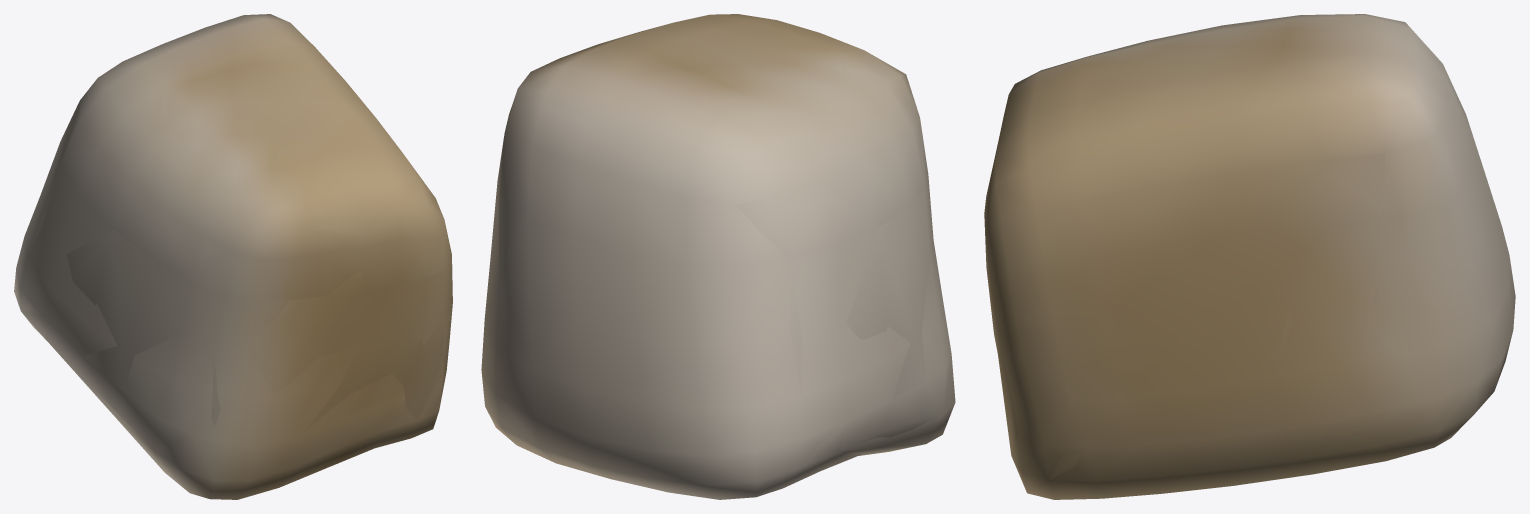
Rendered from R carpale secundum.fbx.
3 views of the same model, side by side, from view 1: azimuth 30°, elevation 25°; view 2: azimuth 150°, elevation 25°; view 3: azimuth 270°, elevation 25° (orthographic). The views are drawn at different scales.
Parts seen in each view (by area): view 1: R carpale secundum, R carpale secundum low; view 2: R carpale secundum, R carpale secundum low; view 3: R carpale secundum, R carpale secundum low.
Part boxes in pixels (left/top/right/bottom): R carpale secundum: left=14, top=14, right=452, bottom=499; R carpale secundum low: left=21, top=15, right=452, bottom=496; R carpale secundum: left=481, top=14, right=955, bottom=499; R carpale secundum low: left=497, top=14, right=943, bottom=498; R carpale secundum: left=984, top=14, right=1515, bottom=499; R carpale secundum low: left=986, top=19, right=1491, bottom=491.
Bounding box in the file's own units: 0.8828 × 1.02 × 1.11.
